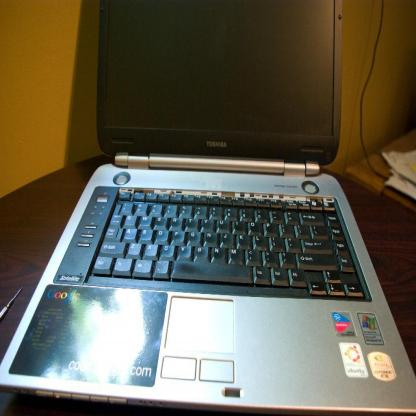board: (0, 0, 416, 412)
